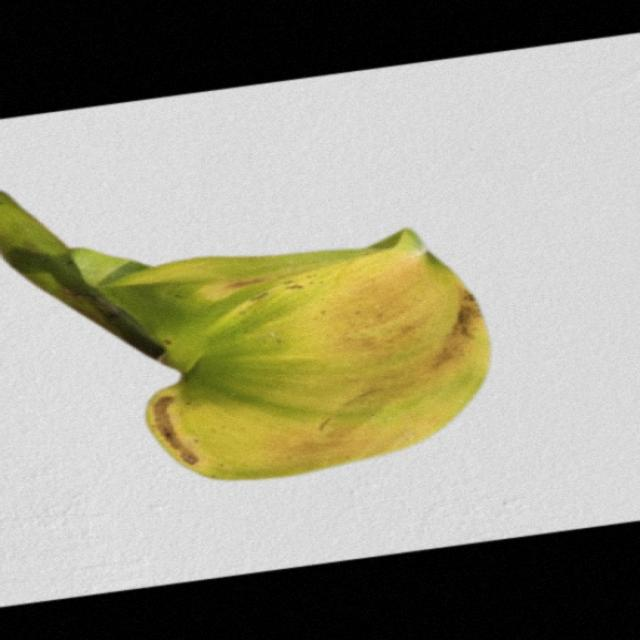daun berpenyakit kuning: (2, 194, 490, 479)
